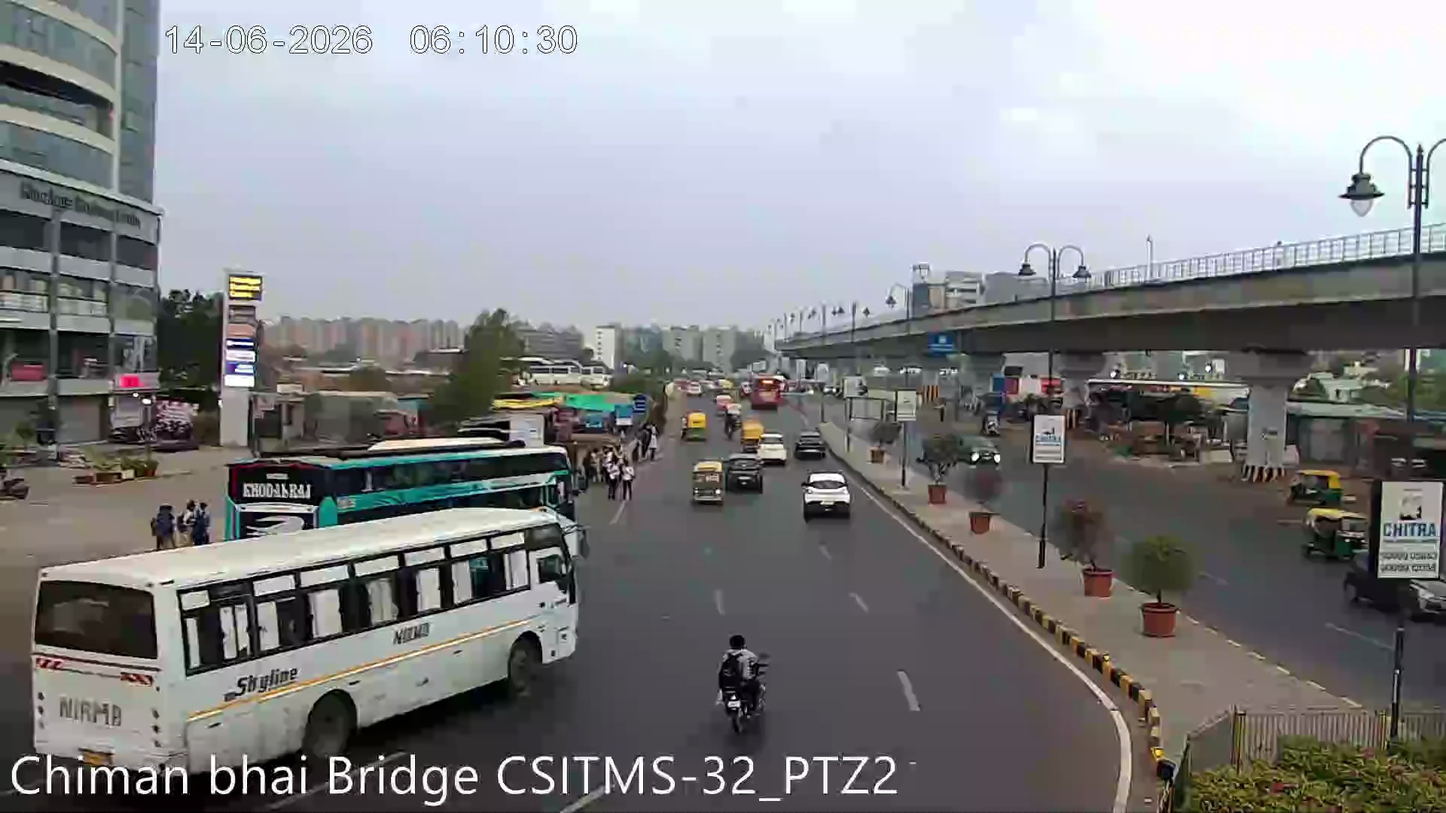auto_rickshaw: (1299, 501, 1368, 563), (689, 455, 727, 507), (727, 449, 765, 494), (756, 426, 789, 462), (795, 425, 828, 456), (680, 407, 709, 441), (738, 419, 766, 449)
bus: (4, 503, 598, 778), (216, 438, 598, 517)
car: (801, 466, 851, 517)
pedestrian: (616, 458, 635, 508), (605, 457, 622, 505)
truck: (1348, 459, 1446, 622), (1344, 507, 1446, 620), (1341, 545, 1445, 616)
two_wheeler: (711, 626, 774, 735)
